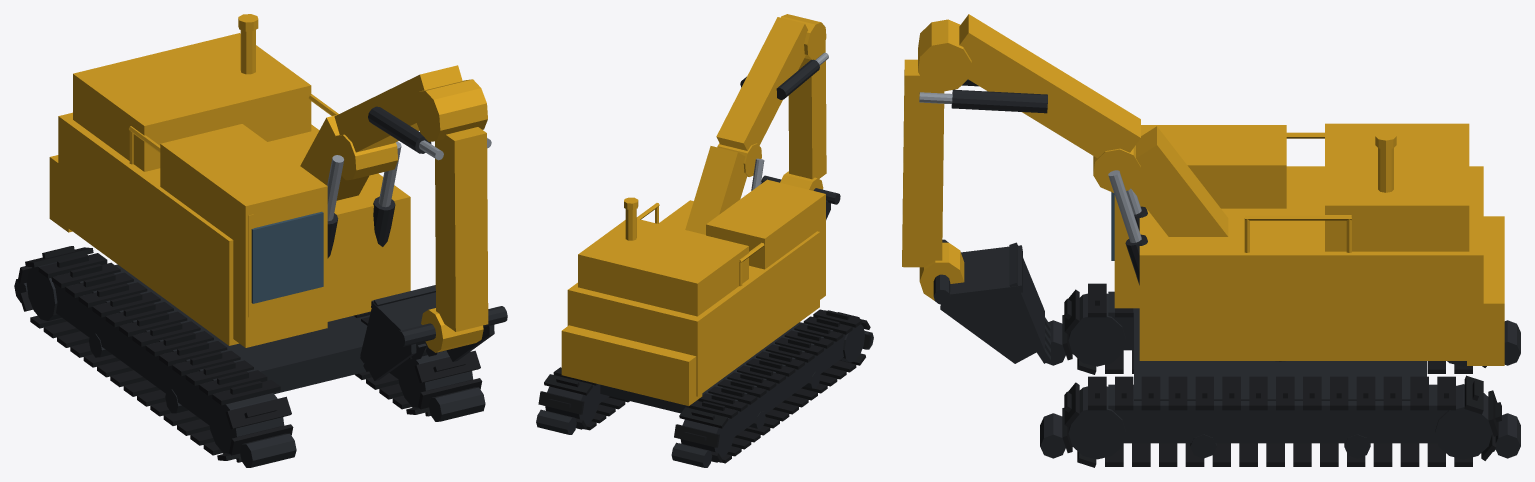
The model's file is ik-excavator.glb.
The picture shows the model from 3 angles, left to right: view 1: azimuth 30°, elevation 25°; view 2: azimuth 150°, elevation 25°; view 3: azimuth 270°, elevation 25°; orthographic projection. The views are drawn at different scales.
Visible parts, largest first — view 1: house, tracks, trackRollers, stick, boom, trackFrame, bucket, cabGlass, boomRamRod, stickRamBarrel, boomRamBarrel; view 2: house, tracks, boom, trackRollers, stick, trackFrame, stickRamBarrel, bucket; view 3: house, trackRollers, boom, tracks, bucket, stick, trackFrame, stickRamBarrel, boomRamRod.
Part boxes in pixels (x1,y1,x2,y2): house: [49, 14, 410, 347]; tracks: [17, 246, 482, 462]; trackRollers: [14, 262, 485, 467]; stick: [421, 127, 488, 352]; boom: [300, 65, 487, 200]; trackFrame: [79, 264, 369, 394]; bucket: [360, 285, 507, 380]; cabGlass: [251, 211, 323, 303]; boomRamRod: [327, 141, 401, 221]; stickRamBarrel: [368, 106, 431, 153]; boomRamBarrel: [327, 196, 395, 258]; house: [561, 179, 825, 405]; tracks: [538, 309, 871, 463]; boom: [685, 14, 826, 234]; trackRollers: [536, 324, 873, 467]; stick: [780, 41, 826, 190]; trackFrame: [600, 322, 833, 413]; stickRamBarrel: [740, 59, 819, 99]; bucket: [761, 175, 840, 219]; house: [1114, 123, 1504, 365]; trackRollers: [1040, 291, 1520, 459]; boom: [918, 14, 1228, 236]; tracks: [1062, 283, 1501, 467]; bucket: [933, 239, 1050, 363]; stick: [902, 59, 964, 300]; trackFrame: [1134, 308, 1426, 400]; stickRamBarrel: [951, 79, 1047, 113]; boomRamRod: [1108, 170, 1141, 242].
Bounding box in the file's own units: 2.6 × 4.02 × 5.57.
